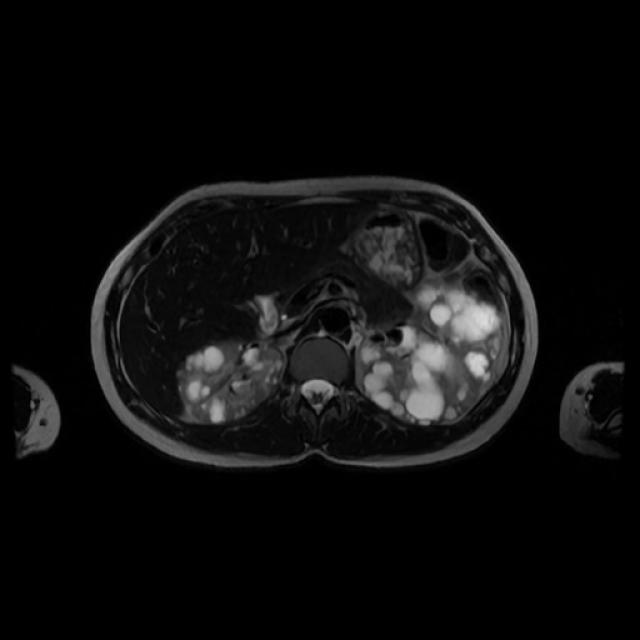sag: (175, 344, 286, 423)
sol: (355, 288, 501, 424)
